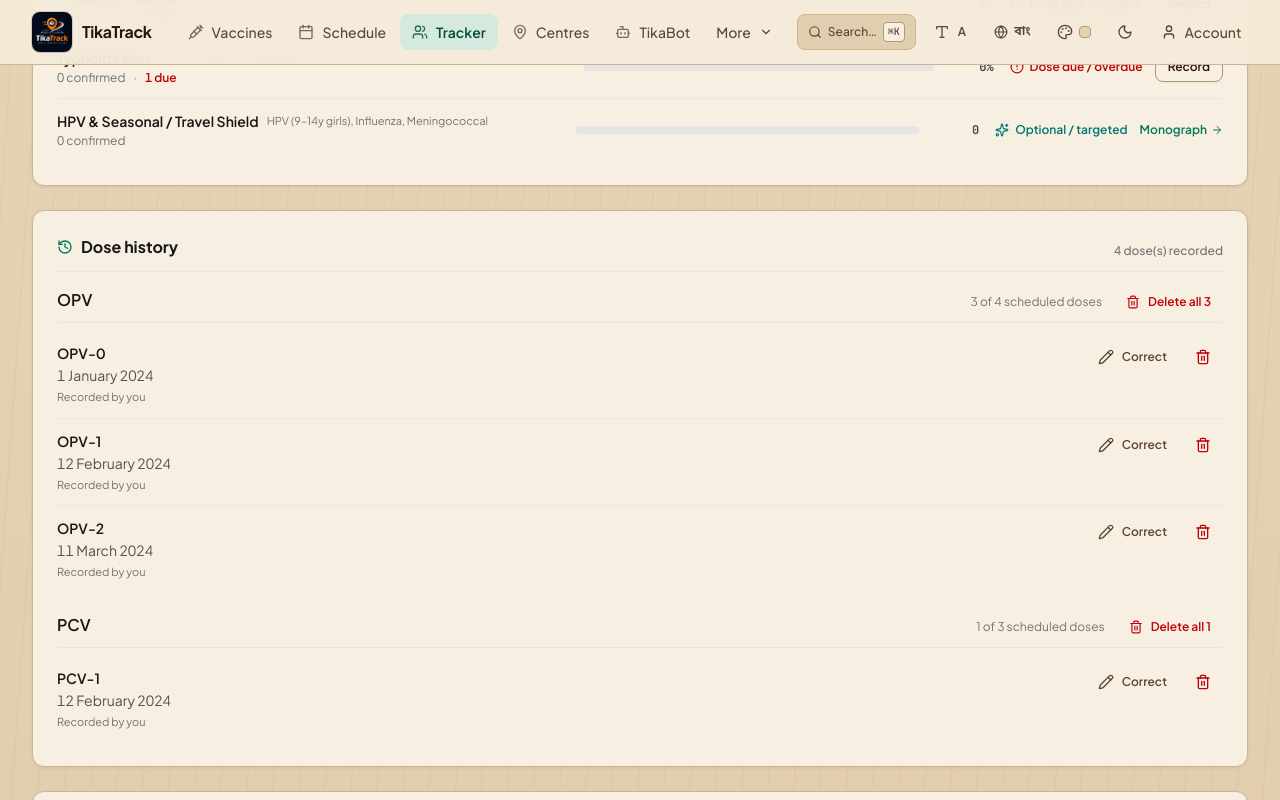
Test: correcting and deleting a dose from the history › deletes one dose only after confirmation, and keeps the rest
(page scrolled)
Click the button named "Remove this dose" in the row of "OPV-1".
click(1203, 444)  # box [1183,430,1223,458]
(page scrolled)
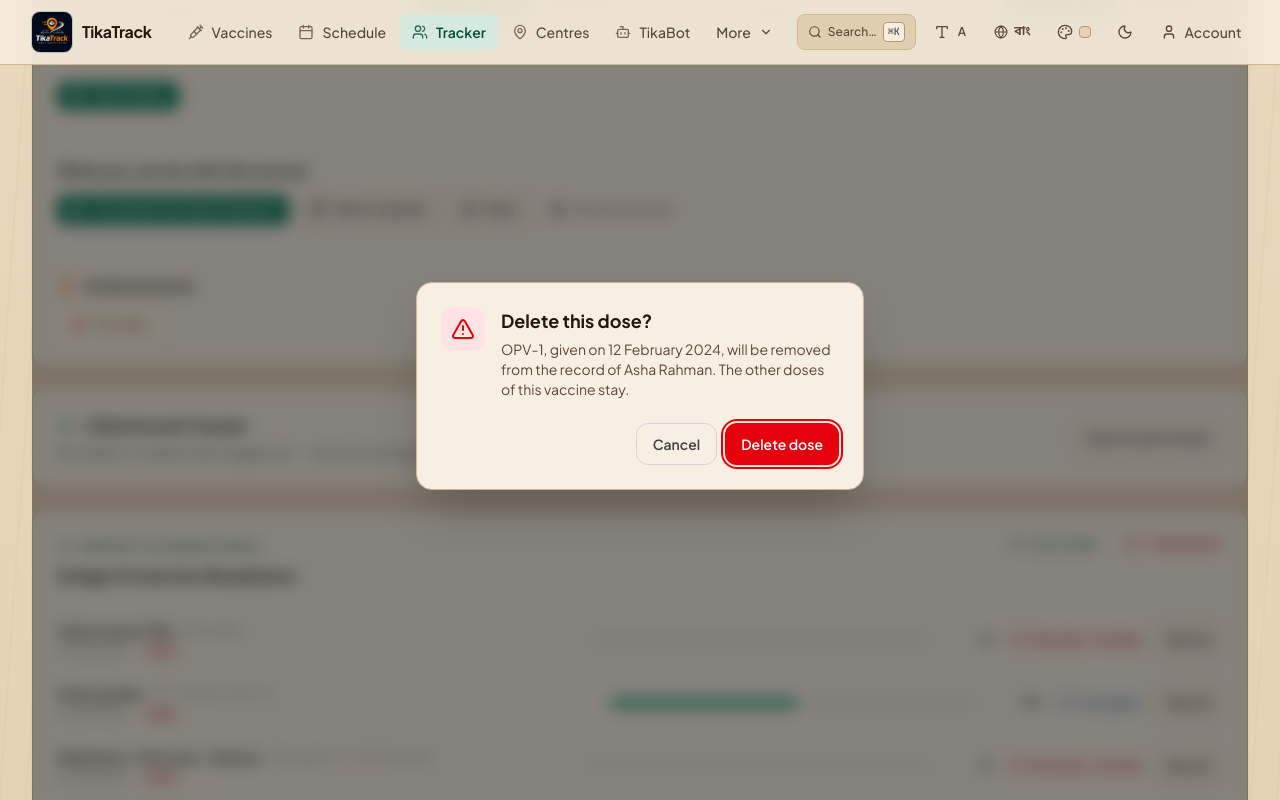
Expected: the heading "Delete this dose?" is shown, [501,309,652,332]
Cancelling changes nothing at all.
Click the button "Cancel".
click(676, 444)  # box [636,423,717,465]
(page scrolled)
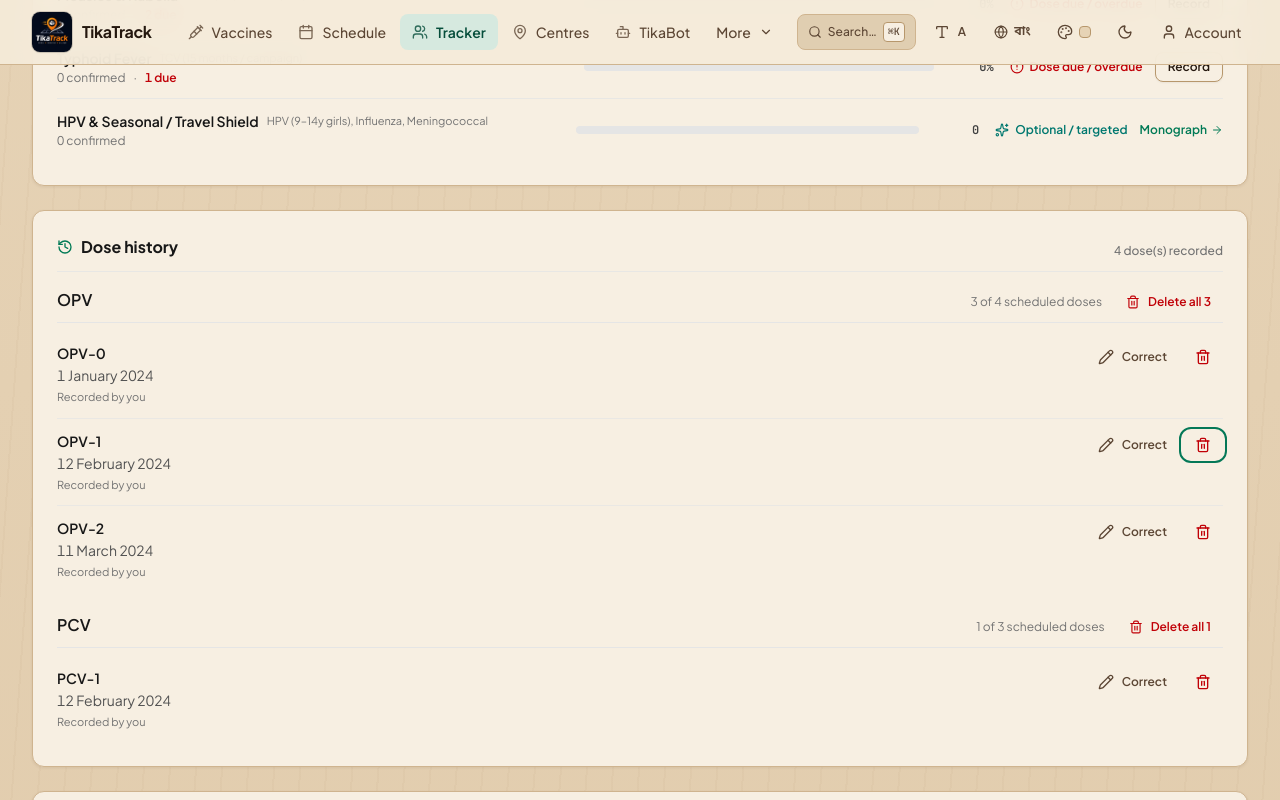
Expected: the text "4 dose(s) recorded" is shown, [1114,243,1223,259]
Expected: the dialog is gone
Confirming removes that one dose.
Click the button named "Remove this dose" in the row of "OPV-1".
click(1203, 444)  # box [1183,430,1223,458]
(page scrolled)
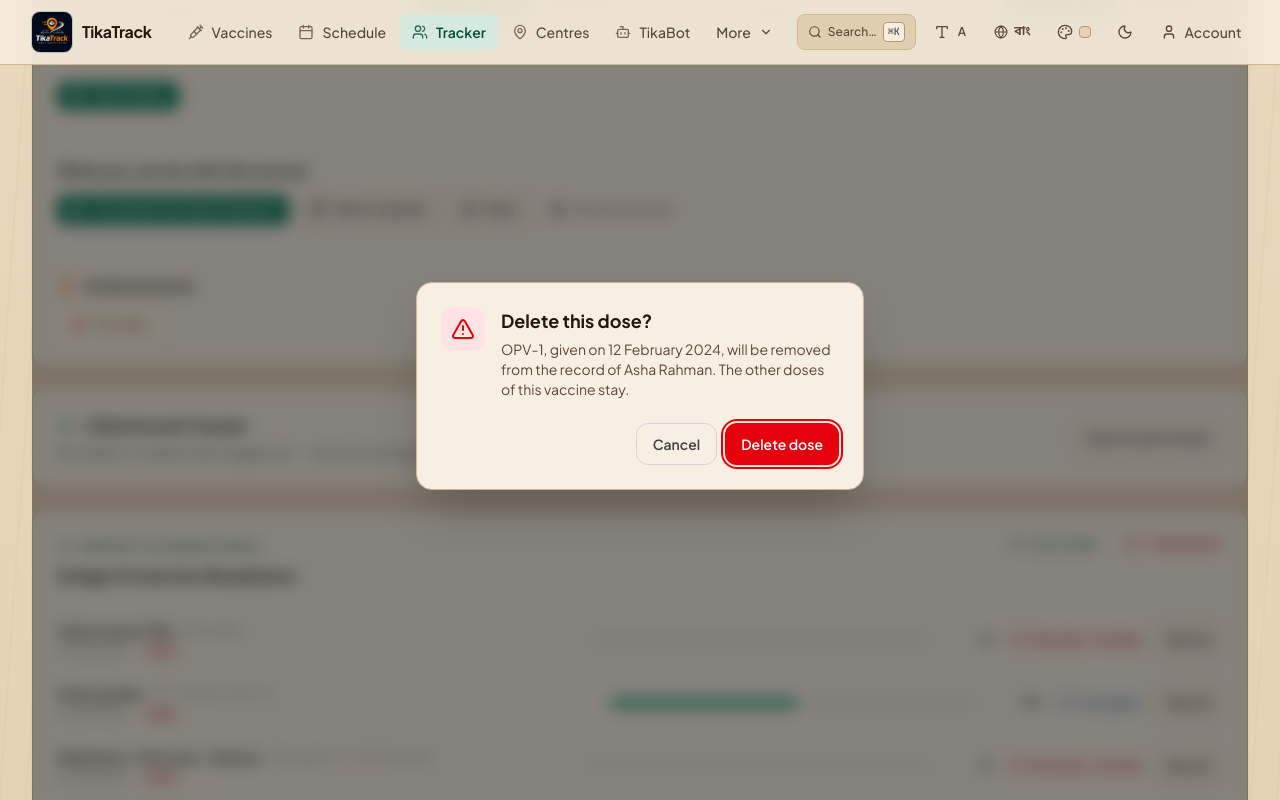
Click the button "Delete dose".
click(782, 444)  # box [725,423,839,465]
(page scrolled)
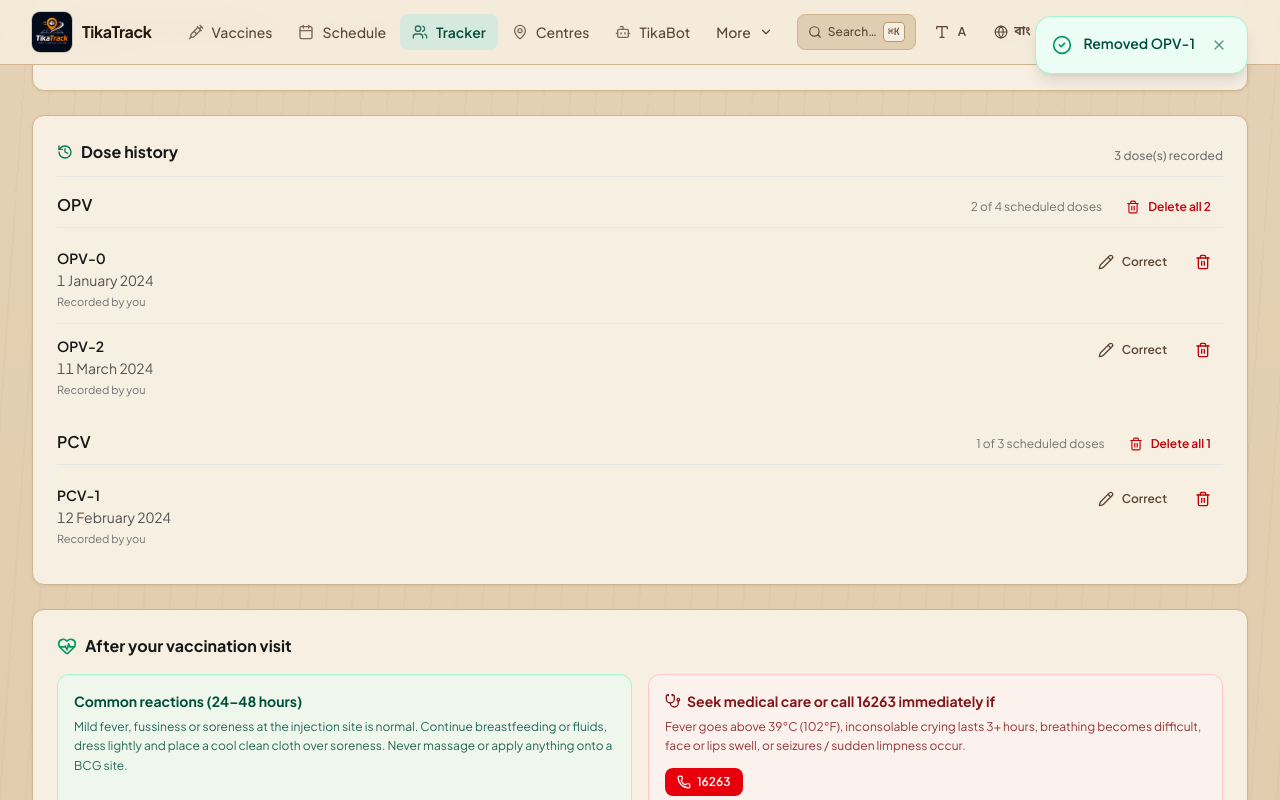
Expected: the text "1 of 3 scheduled doses" is shown, [976,436,1105,452]
Expected: the text "3 dose(s) recorded" is shown, [1114,148,1223,164]
Expected: the text "2 of 4 scheduled doses" is shown, [971,199,1102,215]
